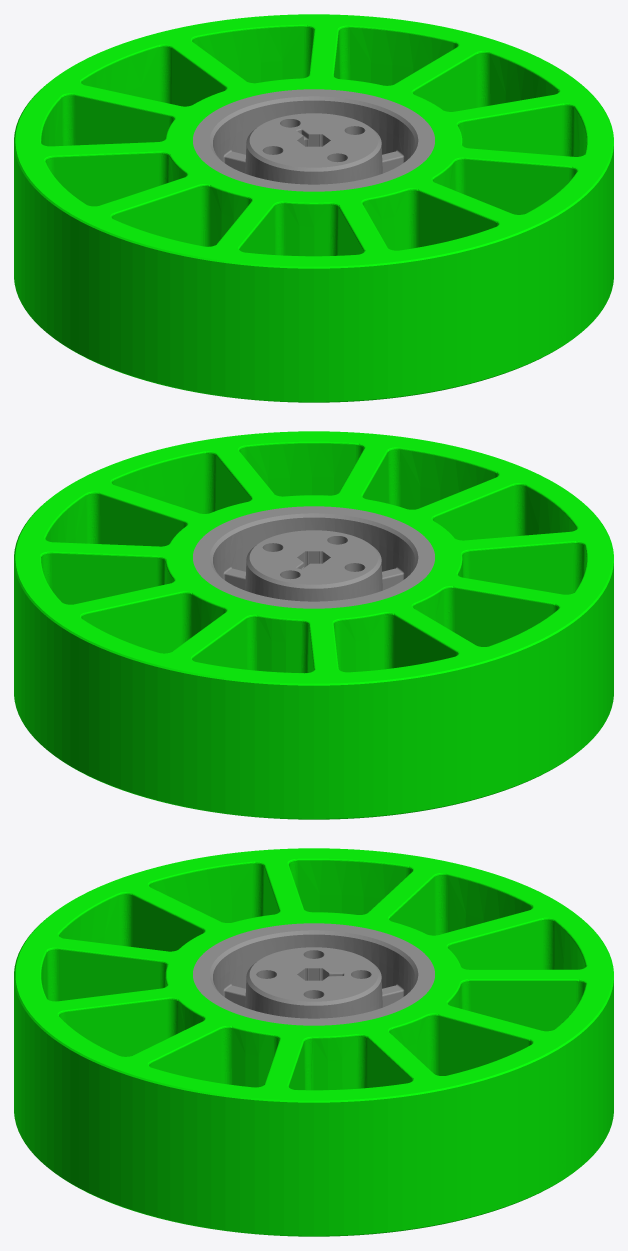
Rendered from model_web.glb.
3 views of the same model, one above another, from view 1: azimuth 30°, elevation 25°; view 2: azimuth 150°, elevation 25°; view 3: azimuth 270°, elevation 25° (orthographic).
Parts seen in each view (by area): view 1: Node1, Node2, Node3; view 2: Node1, Node2, Node3; view 3: Node1, Node2, Node3.
Boxes of the visible parts, <box> form: Node1: <box>14,14,613,402</box>; Node2: <box>193,89,434,191</box>; Node3: <box>40,26,497,255</box>; Node1: <box>14,431,613,819</box>; Node2: <box>193,506,434,608</box>; Node3: <box>51,443,578,669</box>; Node1: <box>14,848,613,1236</box>; Node2: <box>193,923,434,1025</box>; Node3: <box>47,864,585,1075</box>.
Size of the model in its own units: 102 by 25.4 by 102.
